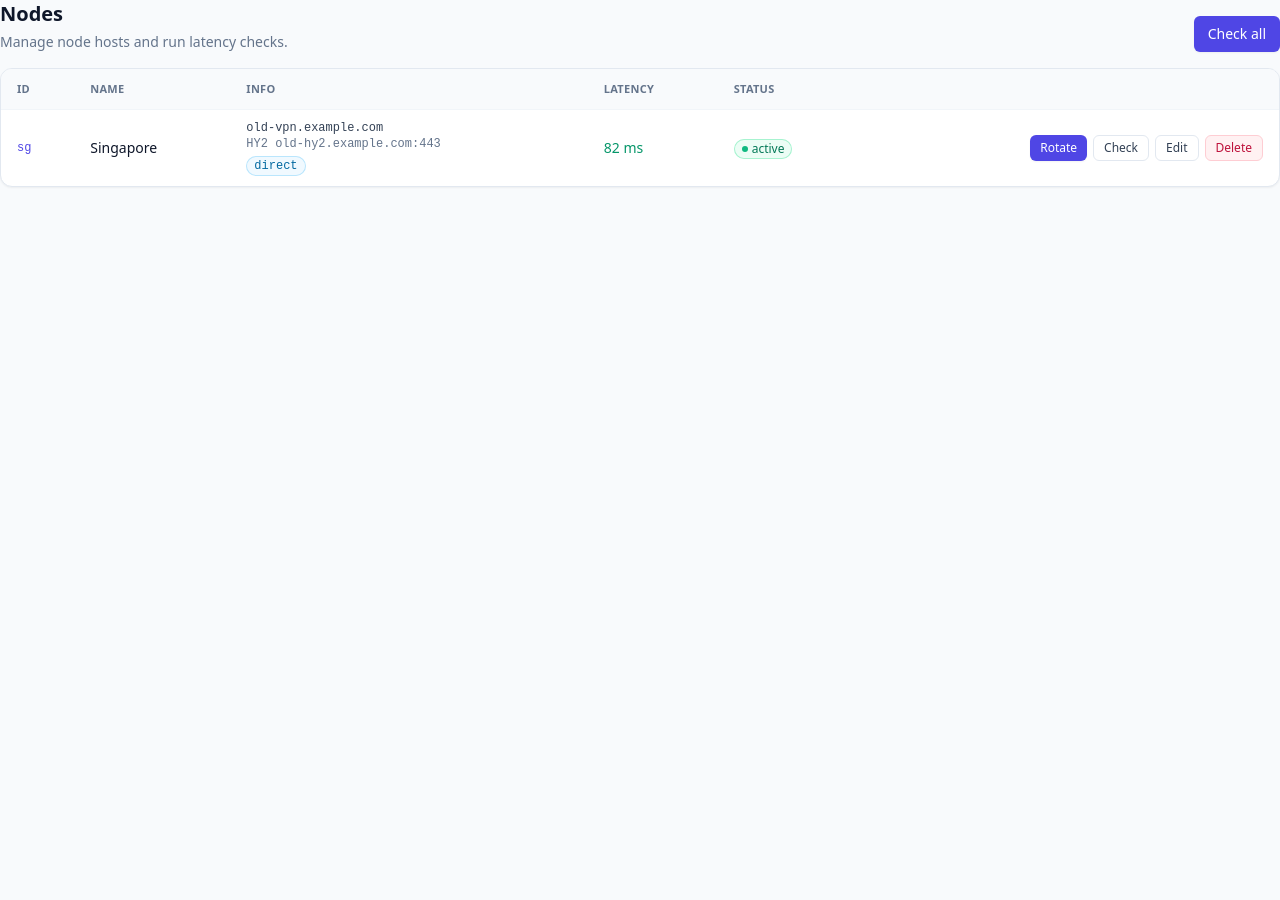
it: rotate updates both vpn host and hy2 host in the row
Check: the text "Singapore" is shown, box [74,110,230,186]
Click the button "Rotate" at (1059,148), box [1030,135,1087,161]
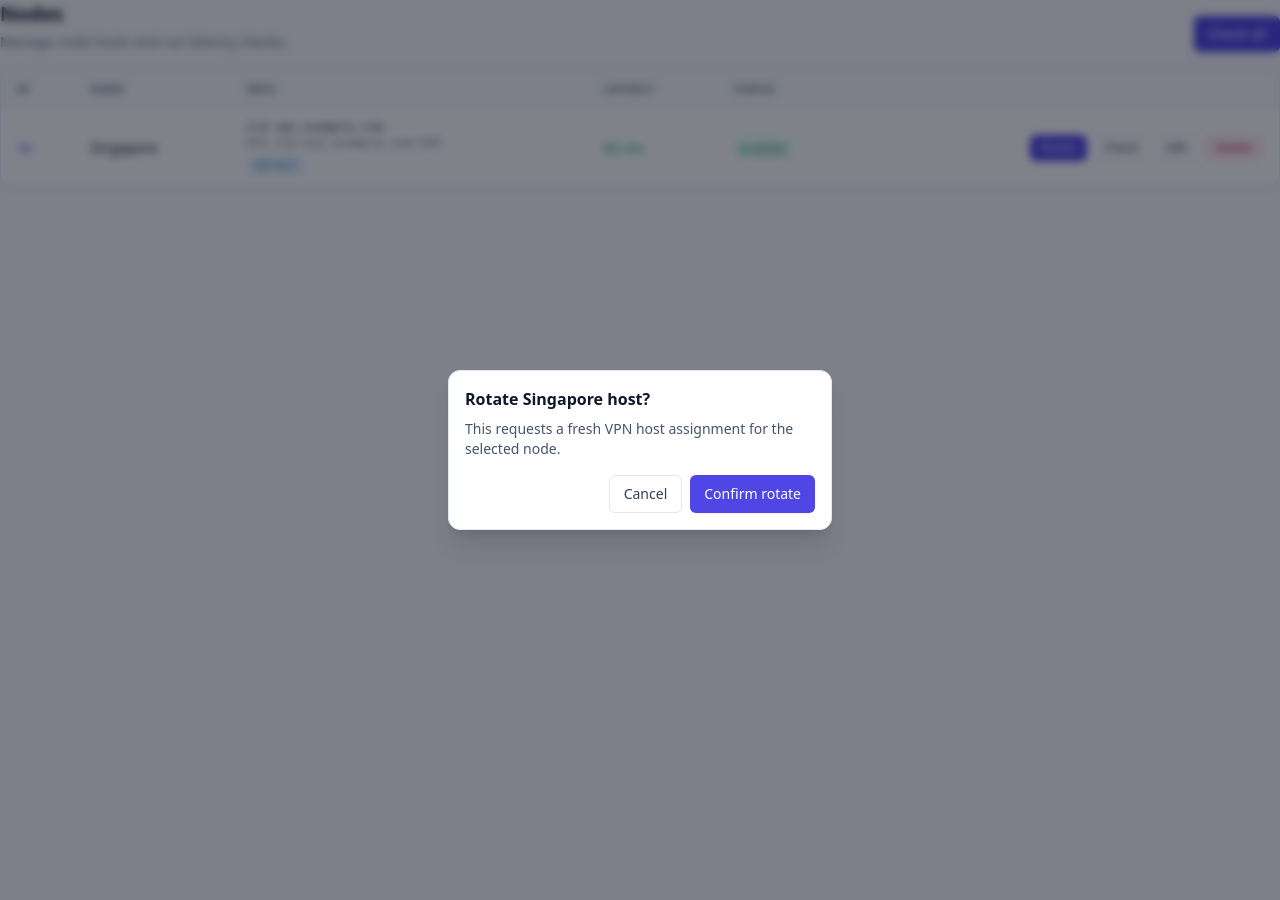
Click the button "Confirm rotate" at (753,494), box [690,475,815,513]
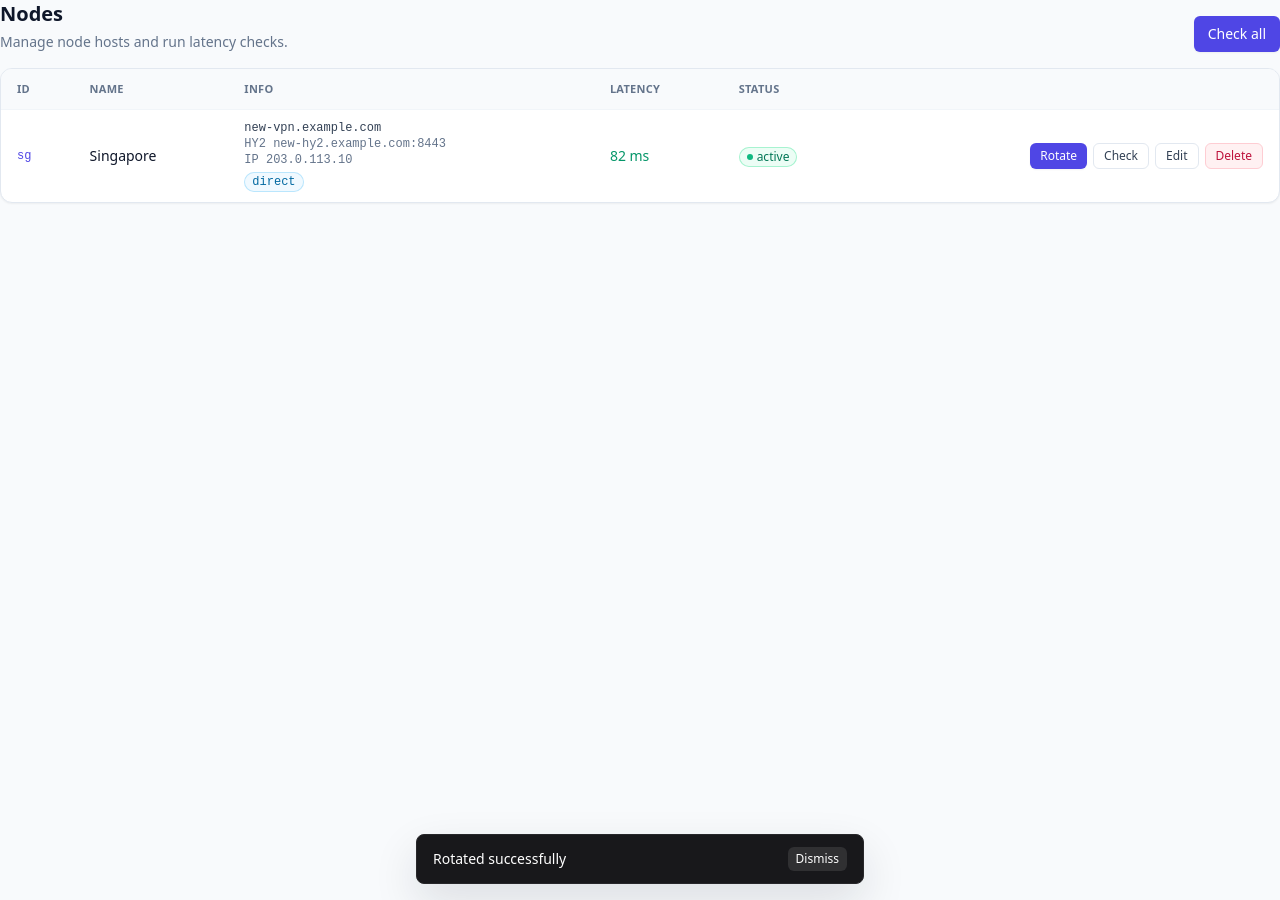
Check: the text "Rotated successfully" is shown, box [433,849,566,869]
Check: the text "new-vpn.example.com" is shown, box [244,121,381,135]
Check: the text "HY2 new-hy2.example.com:8443" is shown, box [244,137,446,151]
